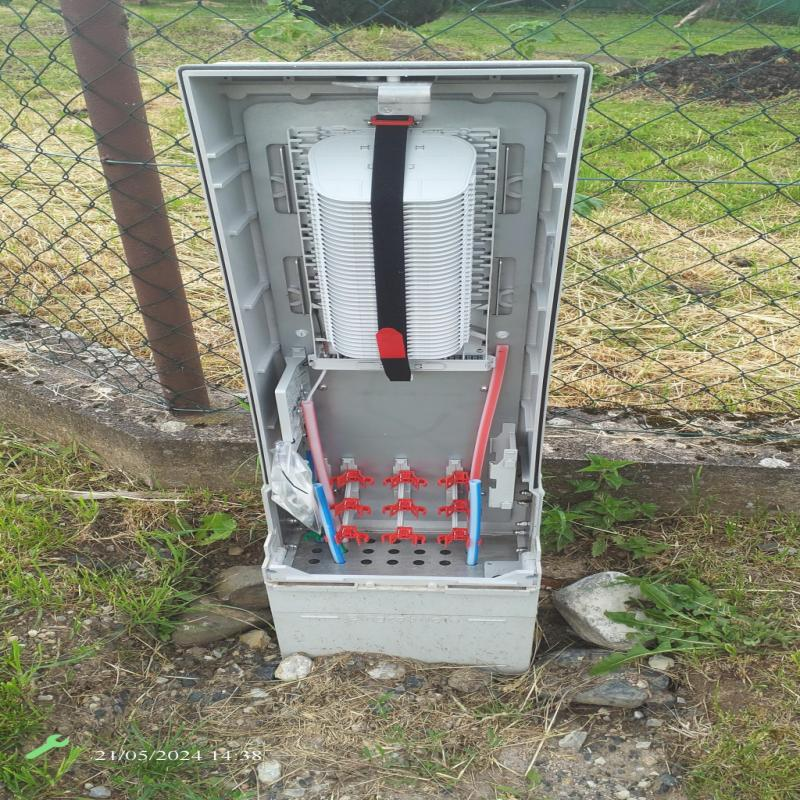NT-Gehause: (178, 63, 588, 670)
Spleiskassetten: (268, 120, 514, 382)
